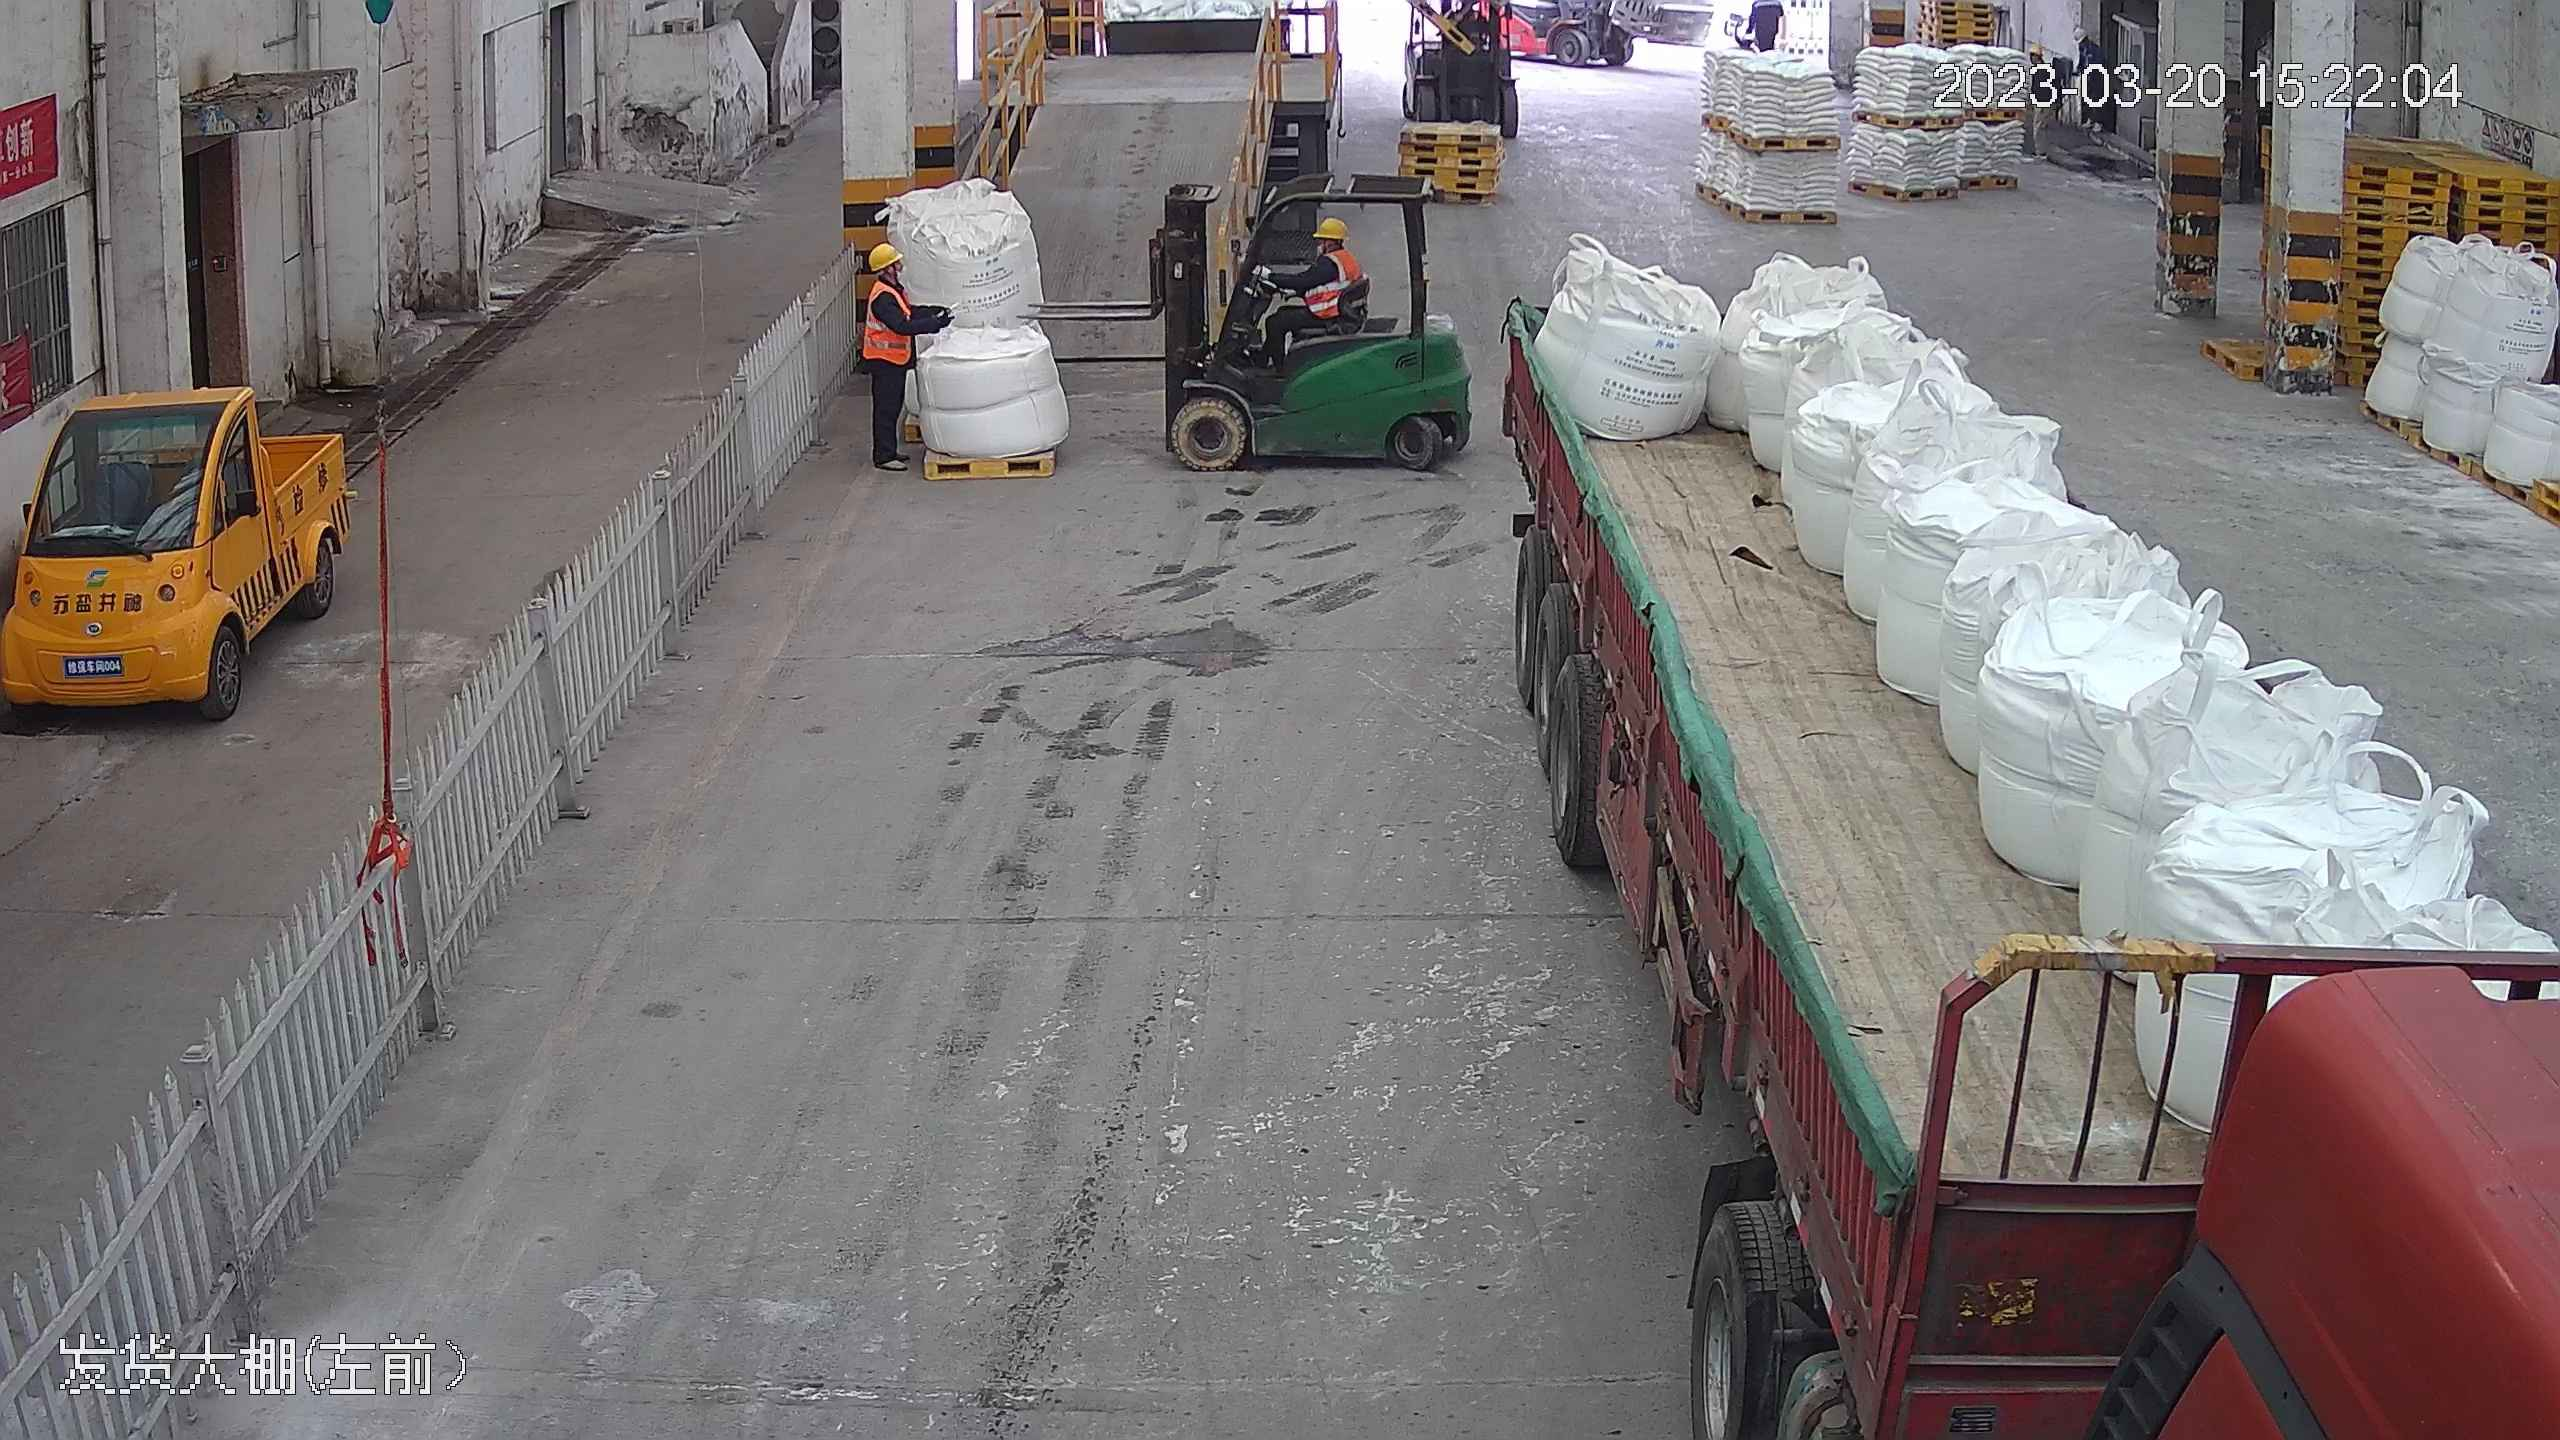head: (852, 240, 921, 312), (1305, 214, 1360, 282)
helmet: (865, 238, 903, 268), (1313, 214, 1349, 242)
people: (851, 236, 944, 473), (1250, 212, 1364, 369)
truck: (1495, 176, 2560, 1434)
